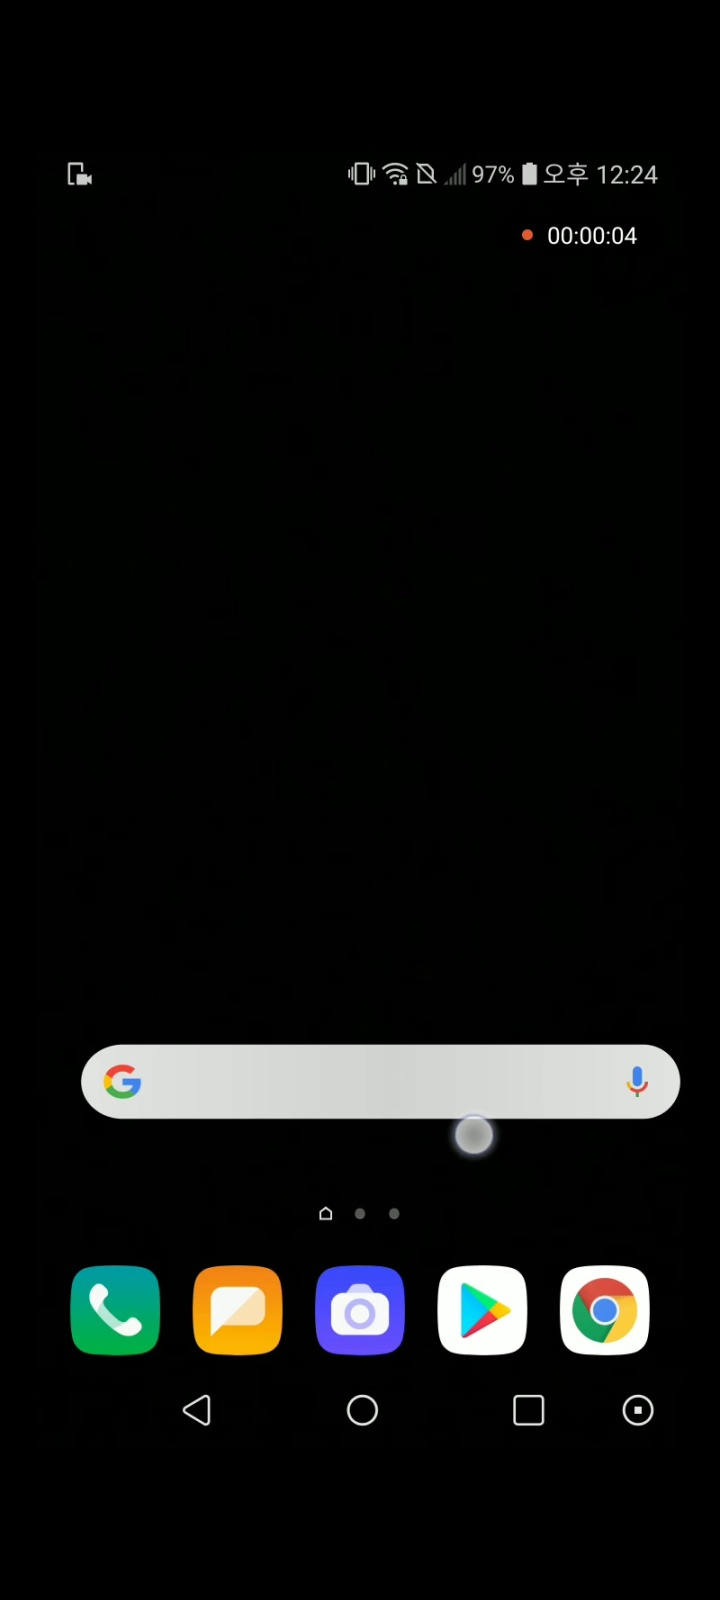Cursor: (453, 1112, 498, 1157)
